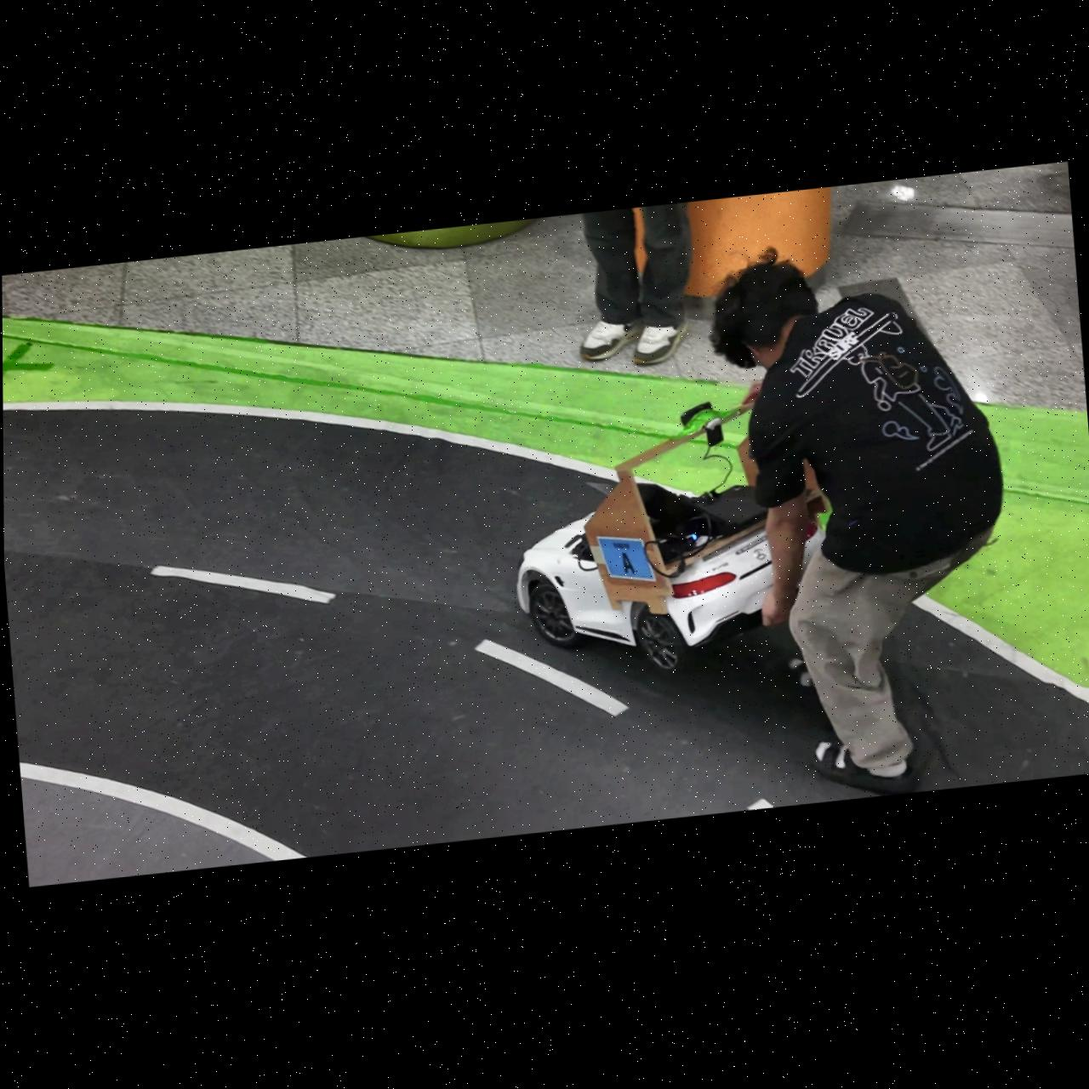broken_line: (475, 640, 627, 715), (151, 566, 337, 603), (747, 798, 775, 810)
